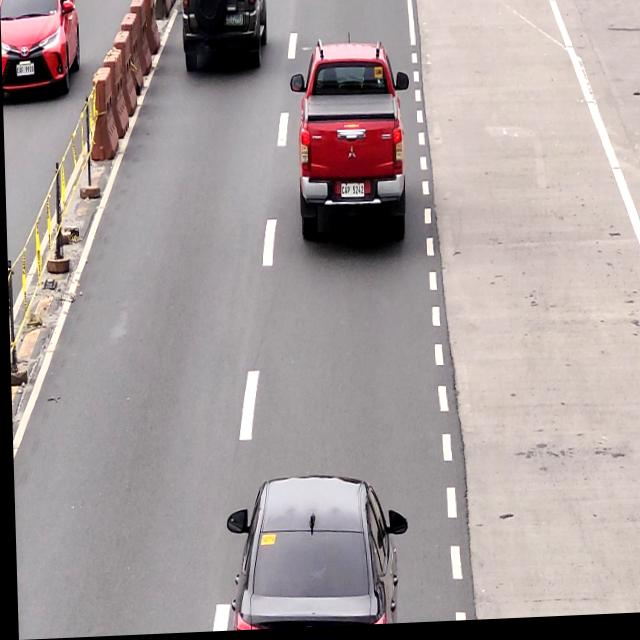Car: (224, 476, 396, 633), (296, 53, 407, 239), (178, 0, 277, 75)
License-Plate: (224, 13, 245, 31), (340, 185, 362, 202)
